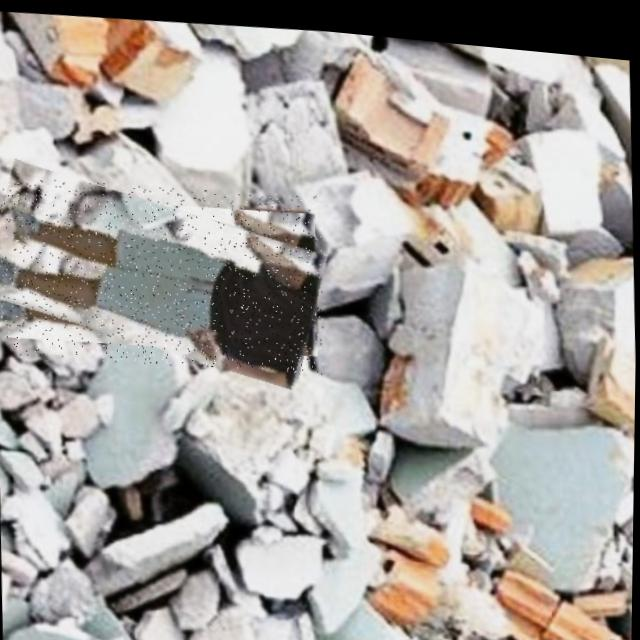Person in Rubble: (0, 165, 326, 379)
